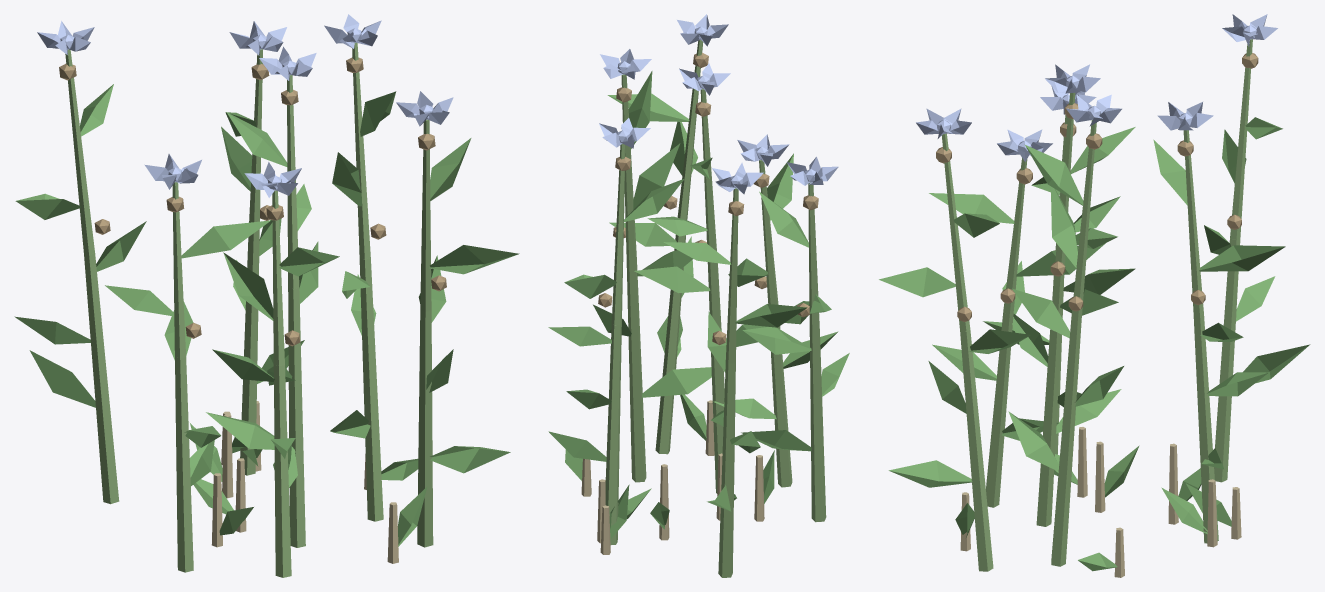
The model's file is plant-flax-a.glb.
3 renders of one model, left to right at view 1: azimuth 30°, elevation 25°; view 2: azimuth 150°, elevation 25°; view 3: azimuth 270°, elevation 25°, orthographic. The views are drawn at different scales.
Visible parts, largest first — view 1: plant-flax-a_full_stemGreen, plant-flax-a_full_leafA, plant-flax-a_fruit_flaxFlower, plant-flax-a_low_leafA, plant-flax-a_low_stemDry, plant-flax-a_fruit_podBrown; view 2: plant-flax-a_full_stemGreen, plant-flax-a_full_leafA, plant-flax-a_fruit_flaxFlower, plant-flax-a_low_stemDry, plant-flax-a_low_leafA, plant-flax-a_fruit_podBrown; view 3: plant-flax-a_full_leafA, plant-flax-a_full_stemGreen, plant-flax-a_fruit_flaxFlower, plant-flax-a_low_stemDry, plant-flax-a_low_leafA, plant-flax-a_fruit_podBrown.
Boxes of the visible parts, box(x1,y1,x2,y2) form: plant-flax-a_full_stemGreen: box(65, 42, 433, 577); plant-flax-a_full_leafA: box(14, 84, 519, 487); plant-flax-a_fruit_flaxFlower: box(37, 14, 453, 197); plant-flax-a_low_leafA: box(190, 423, 426, 546); plant-flax-a_low_stemDry: box(211, 401, 398, 563); plant-flax-a_fruit_podBrown: box(59, 57, 446, 346); plant-flax-a_full_stemGreen: box(605, 40, 826, 577); plant-flax-a_full_leafA: box(548, 71, 849, 511); plant-flax-a_fruit_flaxFlower: box(599, 14, 838, 194); plant-flax-a_low_stemDry: box(581, 400, 764, 554); plant-flax-a_low_leafA: box(565, 394, 774, 539); plant-flax-a_fruit_podBrown: box(598, 52, 818, 345); plant-flax-a_full_leafA: box(879, 117, 1310, 487); plant-flax-a_full_stemGreen: box(942, 39, 1252, 571); plant-flax-a_fruit_flaxFlower: box(916, 14, 1277, 161); plant-flax-a_low_stemDry: box(960, 427, 1241, 577); plant-flax-a_low_leafA: box(955, 445, 1231, 571); plant-flax-a_fruit_podBrown: box(936, 53, 1258, 321).
Size of the model in its own units: 0.7988 by 1.06 by 0.9082.
